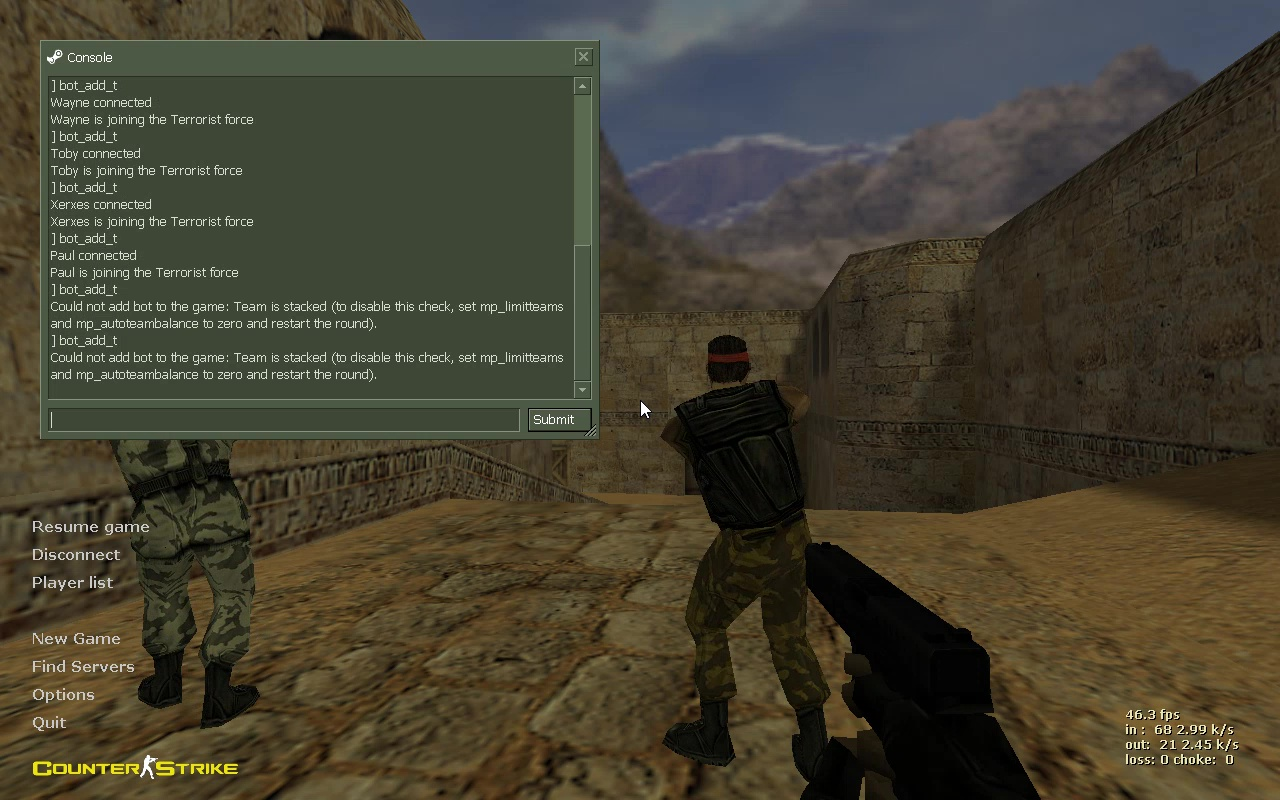terr1: (638, 335, 856, 768)
terr2: (98, 305, 268, 731)
